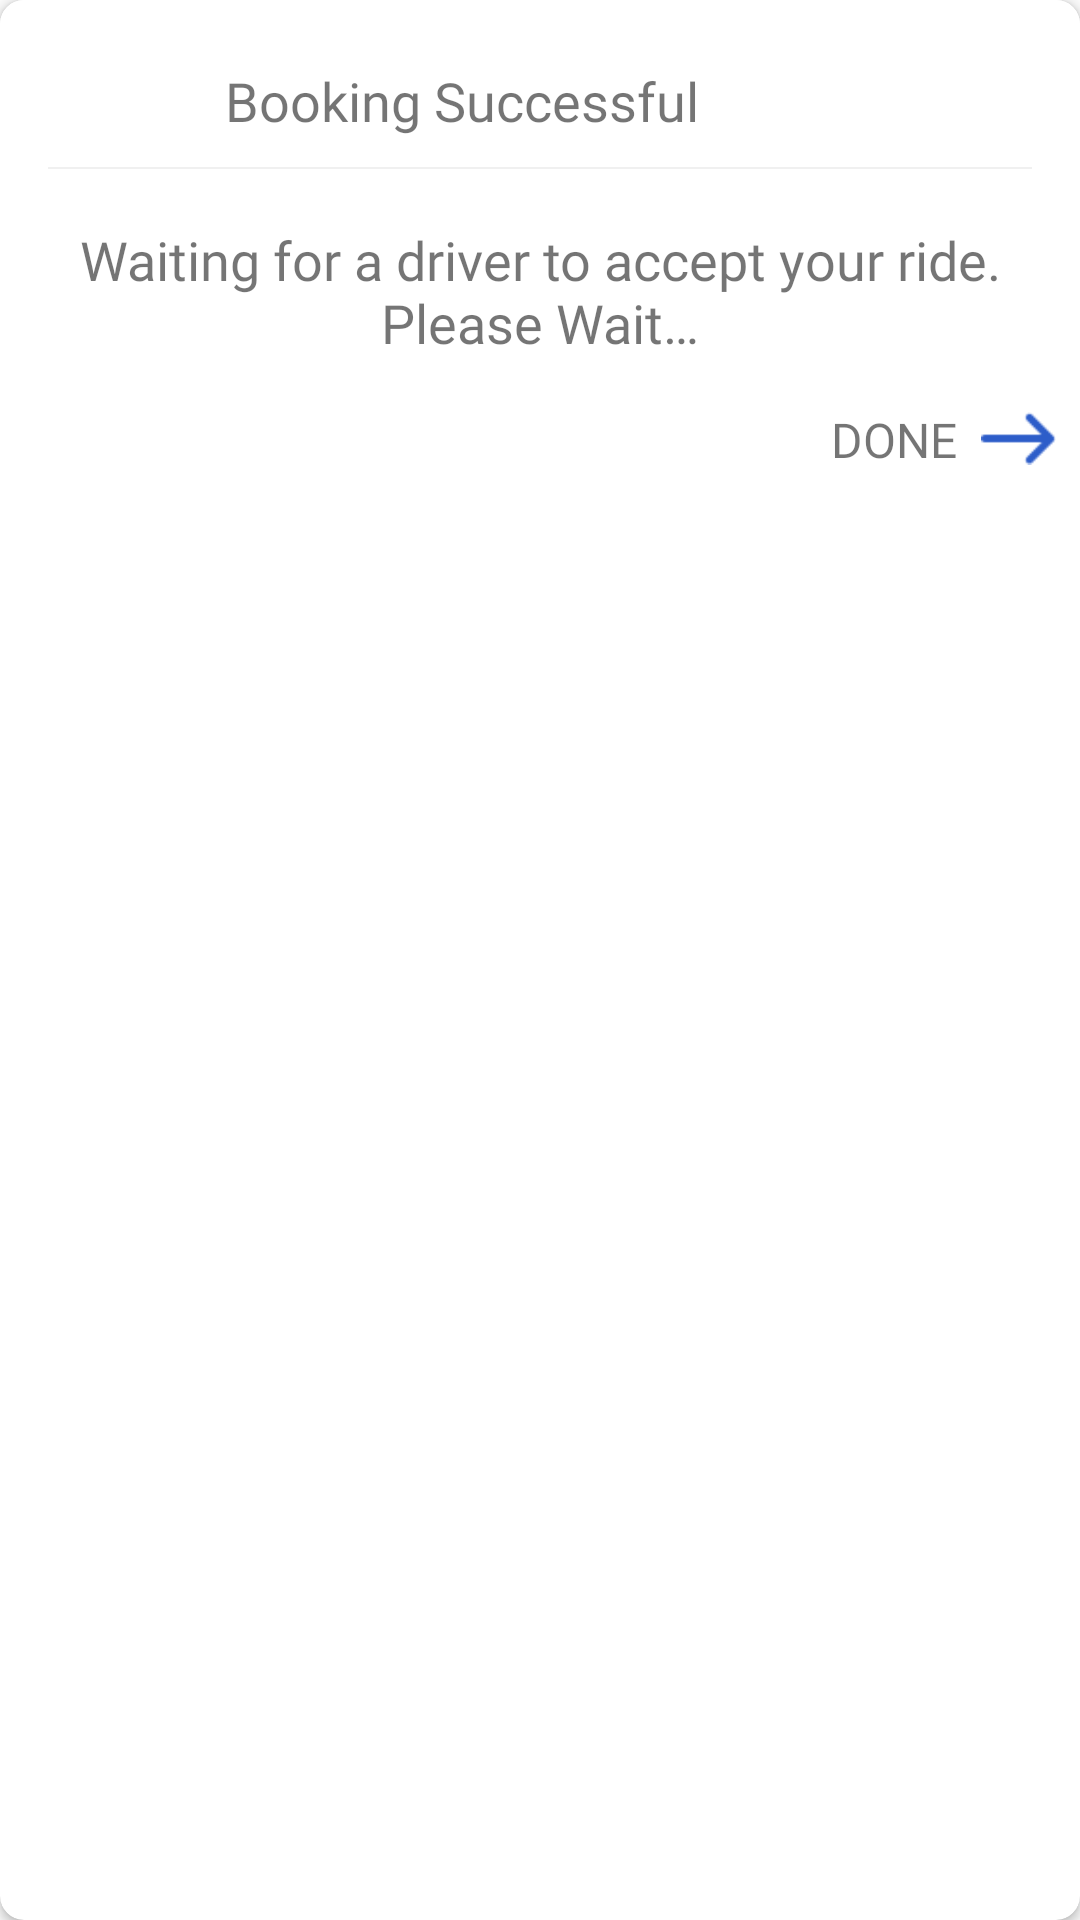

Icon bounding boxes for this 1080px x 1920px phone screenshot, format (x1, y1, x2, y2):
arrow right: (981, 413, 1055, 465)
